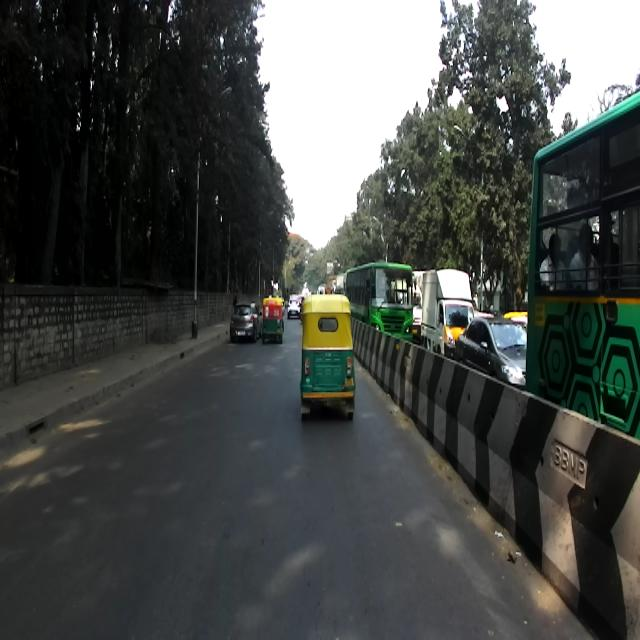auto ahead at: (298, 296, 356, 422), (262, 296, 286, 344)
